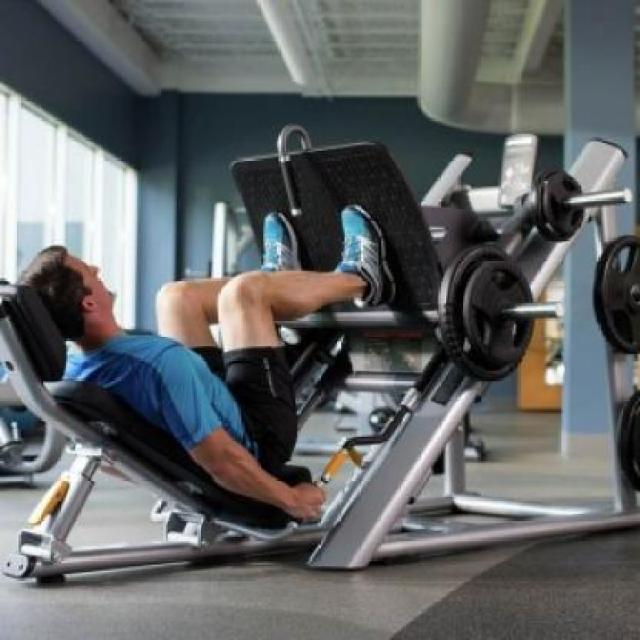leg press: (0, 103, 640, 606)
